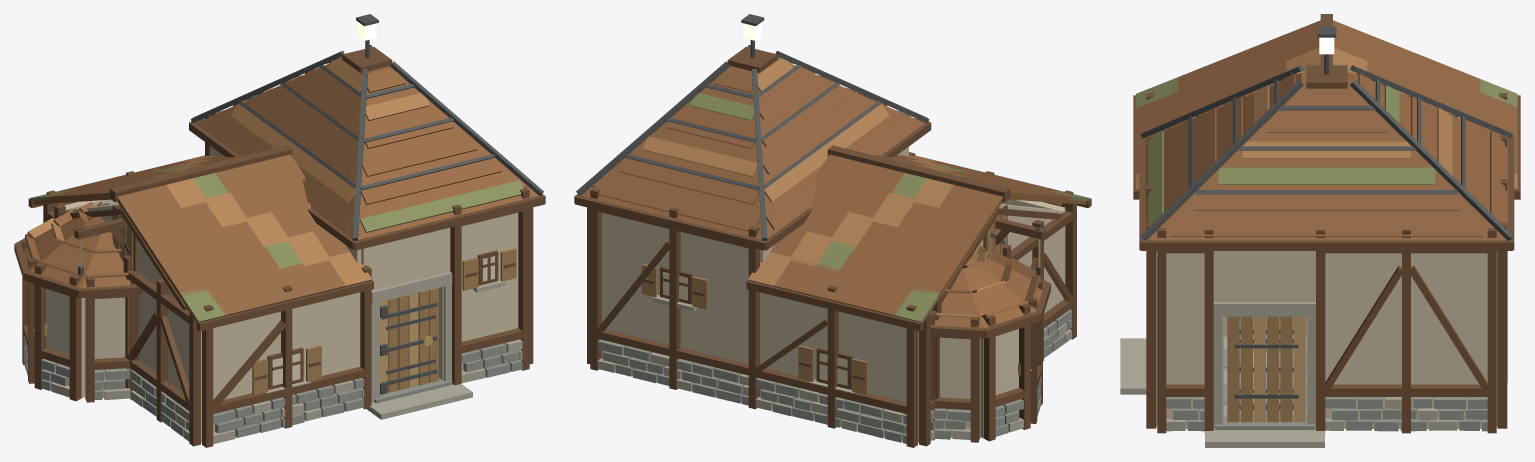
Rendered from holm_mine_gatehouse_v2.glb.
3 renders of one model, left to right at view 1: azimuth 30°, elevation 25°; view 2: azimuth 150°, elevation 25°; view 3: azimuth 270°, elevation 25°, orthographic. The views are drawn at different scales.
Visible parts, largest first — view 1: Roof_Workyard_Shingle_Umber, Static_Workyard_Oak_Dark, Static_Workyard_Warm_Limewash, Roof_Workyard_Oak_Dark, Roof_Workyard_Shingle_Sun, Static_Workyard_Fieldstone, Static_Workyard_Fieldstone_Light, Roof_Workyard_Forged_Iron, Roof_Workyard_Shingle_Moss, gate_door_Workyard_Oak_Worn, Static_Workyard_Oak_Worn, gate_door_Workyard_Fresh_Cut (+3 smaller); view 2: Roof_Workyard_Shingle_Umber, Static_Workyard_Warm_Limewash, Static_Workyard_Oak_Dark, Roof_Workyard_Oak_Dark, Static_Workyard_Fieldstone, Roof_Workyard_Shingle_Sun, Roof_Workyard_Forged_Iron, Roof_Workyard_Shingle_Moss, Static_Workyard_Fieldstone_Light, Static_Workyard_Oak_Worn, Roof_Workyard_Warm_Limewash, Static_Workyard_Chalk; view 3: Roof_Workyard_Shingle_Umber, Static_Workyard_Warm_Limewash, Static_Workyard_Oak_Dark, Roof_Workyard_Forged_Iron, Static_Workyard_Fieldstone_Light, Roof_Workyard_Oak_Dark, Roof_Workyard_Shingle_Moss, Static_Workyard_Fieldstone, road_door_Workyard_Oak_Worn, Roof_Workyard_Shingle_Sun, road_door_Workyard_Fresh_Cut, road_door_Workyard_Forged_Iron (+2 smaller).
Part boxes in pixels (x1=…): Roof_Workyard_Shingle_Umber: x1=21, y1=57, x2=538, y2=322; Static_Workyard_Oak_Dark: x1=22, y1=115, x2=533, y2=447; Static_Workyard_Warm_Limewash: x1=46, y1=146, x2=518, y2=442; Roof_Workyard_Oak_Dark: x1=14, y1=47, x2=545, y2=331; Roof_Workyard_Shingle_Sun: x1=27, y1=58, x2=429, y2=286; Static_Workyard_Fieldstone: x1=24, y1=336, x2=522, y2=437; Static_Workyard_Fieldstone_Light: x1=26, y1=272, x2=522, y2=443; Roof_Workyard_Forged_Iron: x1=77, y1=14, x2=543, y2=275; Roof_Workyard_Shingle_Moss: x1=30, y1=65, x2=523, y2=322; gate_door_Workyard_Oak_Worn: x1=388, y1=288, x2=438, y2=392; Static_Workyard_Oak_Worn: x1=252, y1=248, x2=516, y2=394; gate_door_Workyard_Fresh_Cut: x1=380, y1=292, x2=418, y2=394; Roof_Workyard_Shingle_Umber: x1=581, y1=57, x2=1086, y2=328; Static_Workyard_Warm_Limewash: x1=601, y1=146, x2=1065, y2=442; Static_Workyard_Oak_Dark: x1=587, y1=152, x2=1076, y2=447; Roof_Workyard_Oak_Dark: x1=574, y1=46, x2=1091, y2=338; Static_Workyard_Fieldstone: x1=597, y1=309, x2=1072, y2=443; Roof_Workyard_Shingle_Sun: x1=642, y1=58, x2=1005, y2=317; Roof_Workyard_Forged_Iron: x1=576, y1=14, x2=1042, y2=275; Roof_Workyard_Shingle_Moss: x1=690, y1=93, x2=1089, y2=322; Static_Workyard_Fieldstone_Light: x1=597, y1=295, x2=1072, y2=440; Static_Workyard_Oak_Worn: x1=641, y1=264, x2=867, y2=394; Roof_Workyard_Warm_Limewash: x1=974, y1=204, x2=1063, y2=252; Static_Workyard_Chalk: x1=663, y1=272, x2=847, y2=385; Roof_Workyard_Shingle_Umber: x1=1136, y1=20, x2=1517, y2=240; Static_Workyard_Warm_Limewash: x1=1156, y1=251, x2=1497, y2=428; Static_Workyard_Oak_Dark: x1=1146, y1=93, x2=1507, y2=433; Roof_Workyard_Forged_Iron: x1=1140, y1=26, x2=1512, y2=240; Static_Workyard_Fieldstone_Light: x1=1120, y1=302, x2=1457, y2=447; Roof_Workyard_Oak_Dark: x1=1133, y1=14, x2=1520, y2=250; Roof_Workyard_Shingle_Moss: x1=1136, y1=62, x2=1517, y2=222; Static_Workyard_Fieldstone: x1=1166, y1=397, x2=1487, y2=431; road_door_Workyard_Oak_Worn: x1=1227, y1=316, x2=1292, y2=422; Roof_Workyard_Shingle_Sun: x1=1136, y1=48, x2=1517, y2=190; road_door_Workyard_Fresh_Cut: x1=1254, y1=316, x2=1305, y2=422; road_door_Workyard_Forged_Iron: x1=1234, y1=329, x2=1298, y2=409.
Size of the model in its own units: 13.5 by 9.52 by 9.69.
